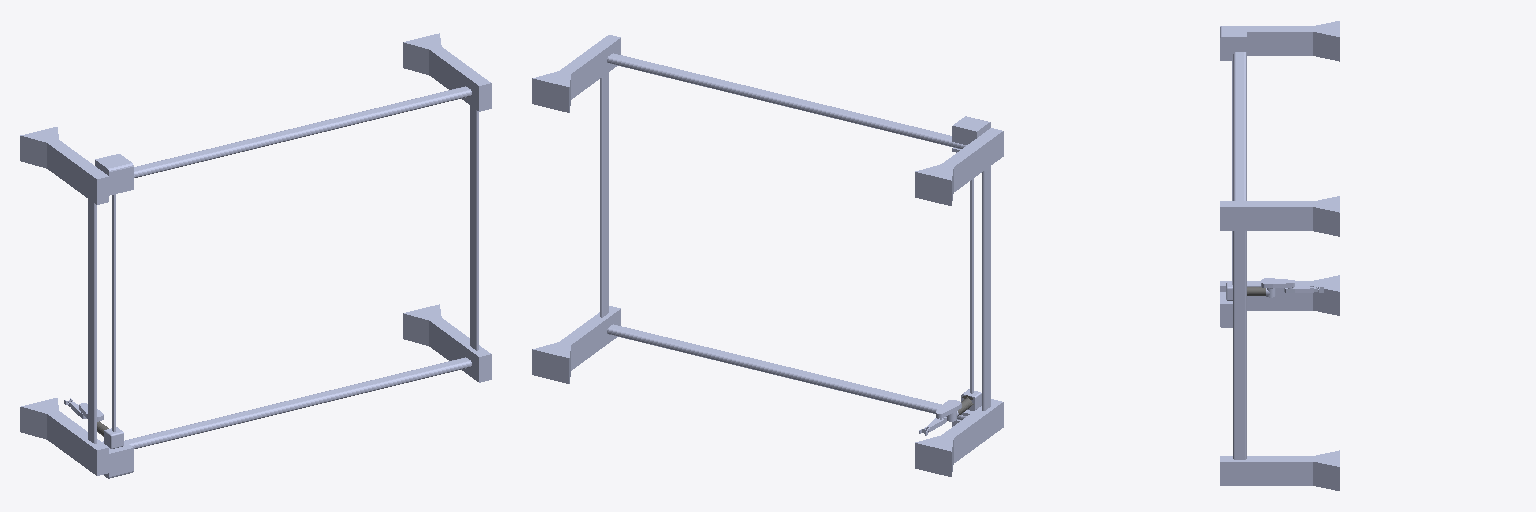
URDF robot description (f_gantry_robot):
<?xml version="1.0" encoding="utf-8"?>
<!-- This URDF was automatically created by SolidWorks to URDF Exporter! Originally created by [author] ([email redacted]) 
     Commit Version: 1.6.0-1-g15f4949  Build Version: 1.6.7594.29634
     For more information, please see http://wiki.ros.org/sw_urdf_exporter -->
<robot
  name="f_gantry_robot">

  <link name="dummy_link">
  </link>
  <joint name="dummy_joint" type="fixed">
  <parent link="dummy_link" />
  <child link="L0" />
  </joint>

  <link
    name="L0">
    <inertial>
      <origin
        xyz="1.10714285904415 0.749998569618219 0.350440549636899"
        rpy="0 0 0" />
      <mass
        value="45.7090884938413" />
      <inertia
        ixx="26.2933073109288"
        ixy="-1.22171726068075E-08"
        ixz="-9.64466009582674E-10"
        iyy="49.4179293885173"
        iyz="3.22610356515301E-09"
        izz="71.8303400673022" />
    </inertial>
    <visual>
      <origin
        xyz="0 0 0"
        rpy="0 0 0" />
      <geometry>
        <mesh
          filename="package://f_gantry_robot/meshes/L0.STL" />
      </geometry>
      <material
        name="">
        <color
          rgba="0.792156862745098 0.819607843137255 0.933333333333333 1" />
      </material>
    </visual>
    <collision>
      <origin
        xyz="0 0 0"
        rpy="0 0 0" />
      <geometry>
        <mesh
          filename="package://f_gantry_robot/meshes/L0.STL" />
      </geometry>
    </collision>
  </link>

  <link
    name="L1">
    <inertial>
      <origin
        xyz="-0.785714281544138 0.00464236562733333 -0.0714285714285771"
        rpy="0 0 0" />
      <mass
        value="5.40609923187187" />
      <inertia
        ixx="0.0172106463607029"
        ixy="-2.92290980463068E-12"
        ixz="4.31293956137086E-17"
        iyy="3.26278765690857"
        iyz="-3.6056677368165E-18"
        izz="3.26259194444328" />
    </inertial>
    <visual>
      <origin
        xyz="0 0 0"
        rpy="0 0 0" />
      <geometry>
        <mesh
          filename="package://f_gantry_robot/meshes/L1.STL" />
      </geometry>
      <material
        name="">
        <color
          rgba="0.792156862745098 0.819607843137255 0.933333333333333 1" />
      </material>
    </visual>
    <collision>
      <origin
        xyz="0 0 0"
        rpy="0 0 0" />
      <geometry>
        <mesh
          filename="package://f_gantry_robot/meshes/L1.STL" />
      </geometry>
    </collision>
  </link>

  <joint
    name="J1"
    type="prismatic">
    <origin
      xyz="0.035714 -0.57143 -0.035714"
      rpy="3.1416 1.5708 0" />
    <parent
      link="L0" />
    <child
      link="L1" />
    <axis
      xyz="0 0 1" />
    <limit
      lower="-2"
      upper="0"
      effort="90"
      velocity="0.1" />
  </joint>

  <transmission name="Joint_1">
    <type>transmission_interface/SimpleTransmission</type>
    <joint name="J1">
      <hardwareInterface>hardware_interface/PositionJointInterface</hardwareInterface>
    </joint>
    <actuator name="M1">
      <mechanicalReduction>1</mechanicalReduction>
    </actuator>
  </transmission> 

  <link
    name="L2">
    <inertial>
      <origin
        xyz="-1.38777878078145E-16 -0.000295354865567976 -0.040001123995086"
        rpy="0 0 0" />
      <mass
        value="0.434899584888463" />
      <inertia
        ixx="0.000416959438846053"
        ixy="2.52017255905925E-19"
        ixz="-1.46824558728147E-20"
        iyy="0.000463089836628531"
        iyz="8.63983052819577E-20"
        izz="0.000425389259754008" />
    </inertial>
    <visual>
      <origin
        xyz="0 0 0"
        rpy="0 0 0" />
      <geometry>
        <mesh
          filename="package://f_gantry_robot/meshes/L2.STL" />
      </geometry>
      <material
        name="">
        <color
          rgba="0.792156862745098 0.819607843137255 0.933333333333333 1" />
      </material>
    </visual>
    <collision>
      <origin
        xyz="0 0 0"
        rpy="0 0 0" />
      <geometry>
        <mesh
          filename="package://f_gantry_robot/meshes/L2.STL" />
      </geometry>
    </collision>
  </link>
  <joint
    name="J2"
    type="prismatic">
    <origin
      xyz="-0.071427 0 -0.071429"
      rpy="0 1.5708 0" />
    <parent
      link="L1" />
    <child
      link="L2" />
    <axis
      xyz="0 2.6946E-05 -1" />
    <limit
      lower="0"
      upper="1.3486"
      effort="20"
      velocity="0.1" />
  </joint>

  <transmission name="Joint_2">
    <type>transmission_interface/SimpleTransmission</type>
    <joint name="J2">
      <hardwareInterface>hardware_interface/PositionJointInterface</hardwareInterface>
    </joint>
    <actuator name="M2">
      <mechanicalReduction>1</mechanicalReduction>
    </actuator>
  </transmission> 

  <link
    name="L3">
    <inertial>
      <origin
        xyz="-8.79478468028549E-06 0.0736471747897318 -1.88876692064355E-14"
        rpy="0 0 0" />
      <mass
        value="0.325325262072372" />
      <inertia
        ixx="0.000779107599593089"
        ixy="-1.74981056722359E-07"
        ixz="3.71433853743346E-22"
        iyy="0.000117049903997481"
        iyz="3.37111552918147E-19"
        izz="0.00077918886554173" />
    </inertial>
    <visual>
      <origin
        xyz="0 0 0"
        rpy="0 0 0" />
      <geometry>
        <mesh
          filename="package://f_gantry_robot/meshes/L3.STL" />
      </geometry>
      <material
        name="">
        <color
          rgba="0.498039215686275 0.498039215686275 0.498039215686275 1" />
      </material>
    </visual>
    <collision>
      <origin
        xyz="0 0 0"
        rpy="0 0 0" />
      <geometry>
        <mesh
          filename="package://f_gantry_robot/meshes/L3.STL" />
      </geometry>
    </collision>
  </link>


  <joint
    name="J3"
    type="fixed">
    <origin
      xyz="0 -0.029712 -0.040001"
      rpy="-3.1416 0 0" />
    <parent
      link="L2" />
    <child
      link="L3" />
    <axis
      xyz="0 1 0" />
  </joint>
  <link
    name="L4">
    <inertial>
      <origin
        xyz="0.0149979767799962 0.0274694096422748 -2.10815332551961E-08"
        rpy="0 0 0" />
      <mass
        value="0.158592600561539" />
      <inertia
        ixx="5.21692004565407E-05"
        ixy="3.49364309120793E-06"
        ixz="8.2568799672585E-11"
        iyy="0.000114681862985054"
        iyz="-1.15832100350628E-10"
        izz="0.000109591783908965" />
    </inertial>
    <visual>
      <origin
        xyz="0 0 0"
        rpy="0 0 0" />
      <geometry>
        <mesh
          filename="package://f_gantry_robot/meshes/L4.STL" />
      </geometry>
      <material
        name="">
        <color
          rgba="0.792156862745098 0.819607843137255 0.933333333333333 1" />
      </material>
    </visual>
    <collision>
      <origin
        xyz="0 0 0"
        rpy="0 0 0" />
      <geometry>
        <mesh
          filename="package://f_gantry_robot/meshes/L4.STL" />
      </geometry>
    </collision>
  </link>

  <joint
    name="J4"
    type="revolute">
    <origin
      xyz="0 0.146 0"
      rpy="-3.1416 -1.5687 3.1416" />
    <parent
      link="L3" />
    <child
      link="L4" />
    <axis
      xyz="0 1 0" />
    <limit
      lower="-3.14"
      upper="3.14"
      effort="20"
      velocity="1" />
  </joint>

  <transmission name="Joint_4">
    <type>transmission_interface/SimpleTransmission</type>
    <joint name="J4">
      <hardwareInterface>hardware_interface/PositionJointInterface</hardwareInterface>
    </joint>
    <actuator name="M4">
      <mechanicalReduction>1</mechanicalReduction>
    </actuator>
  </transmission> 

  <link
    name="L5">
    <inertial>
      <origin
        xyz="1.65548130759419E-13 -0.0178430116520465 -0.0330210650613293"
        rpy="0 0 0" />
      <mass
        value="0.229643508251062" />
      <inertia
        ixx="0.000589562582560473"
        ixy="-2.68345662518328E-20"
        ixz="5.17325372535564E-19"
        iyy="0.000667491249164921"
        iyz="2.76727992986223E-07"
        izz="0.00010488966479855" />
    </inertial>
    <visual>
      <origin
        xyz="0 0 0"
        rpy="0 0 0" />
      <geometry>
        <mesh
          filename="package://f_gantry_robot/meshes/L5.STL" />
      </geometry>
      <material
        name="">
        <color
          rgba="0.792156862745098 0.819607843137255 0.933333333333333 1" />
      </material>
    </visual>
    <collision>
      <origin
        xyz="0 0 0"
        rpy="0 0 0" />
      <geometry>
        <mesh
          filename="package://f_gantry_robot/meshes/L5.STL" />
      </geometry>
    </collision>
  </link>


  <joint
    name="J5"
    type="revolute">
    <origin
      xyz="0.029 0.026 0"
      rpy="0 -1.547 1.5708" />
    <parent
      link="L4" />
    <child
      link="L5" />
    <axis
      xyz="0 1 0" />
    <limit
      lower="-3.14"
      upper="3.14"
      effort="20"
      velocity="1" />
  </joint>

  <transmission name="Joint_5">
    <type>transmission_interface/SimpleTransmission</type>
    <joint name="J5">
      <hardwareInterface>hardware_interface/PositionJointInterface</hardwareInterface>
    </joint>
    <actuator name="M5">
      <mechanicalReduction>1</mechanicalReduction>
    </actuator>
  </transmission> 

  <link
    name="L6">
    <inertial>
      <origin
        xyz="4.88498130835069E-15 -0.0146356446057586 -0.0353152453376644"
        rpy="0 0 0" />
      <mass
        value="0.165415455625704" />
      <inertia
        ixx="0.000320673122950523"
        ixy="3.09696421339854E-21"
        ixz="4.65868120989865E-20"
        iyy="0.000321812073133408"
        iyz="-1.67334478420098E-05"
        izz="3.84249953599312E-05" />
    </inertial>
    <visual>
      <origin
        xyz="0 0 0"
        rpy="0 0 0" />
      <geometry>
        <mesh
          filename="package://f_gantry_robot/meshes/L6.STL" />
      </geometry>
      <material
        name="">
        <color
          rgba="0.792156862745098 0.819607843137255 0.933333333333333 1" />
      </material>
    </visual>
    <collision>
      <origin
        xyz="0 0 0"
        rpy="0 0 0" />
      <geometry>
        <mesh
          filename="package://f_gantry_robot/meshes/L6.STL" />
      </geometry>
    </collision>
  </link>


  <joint
    name="J6"
    type="revolute">
    <origin
      xyz="0 0 -0.10255"
      rpy="0 0.01102 -3.1416" />
    <parent
      link="L5" />
    <child
      link="L6" />
    <axis
      xyz="0 1 0" />
    <limit
      lower="-3.14"
      upper="3.14"
      effort="20"
      velocity="1" />
  </joint>

  <transmission name="Joint_6">
    <type>transmission_interface/SimpleTransmission</type>
    <joint name="J6">
      <hardwareInterface>hardware_interface/PositionJointInterface</hardwareInterface>
    </joint>
    <actuator name="M6">
      <mechanicalReduction>1</mechanicalReduction>
    </actuator>
  </transmission> 

  <link
    name="L7">
    <inertial>
      <origin
        xyz="-4.8017145815038E-15 -0.00844472740586596 -5.55111512312578E-17"
        rpy="0 0 0" />
      <mass
        value="0.00578055719994573" />
      <inertia
        ixx="3.70196834286497E-07"
        ixy="-9.55393607498747E-23"
        ixz="-9.23878193682978E-19"
        iyy="6.56573634085627E-07"
        iyz="1.11960188378759E-24"
        izz="6.09329174700272E-07" />
    </inertial>
    <visual>
      <origin
        xyz="0 0 0"
        rpy="0 0 0" />
      <geometry>
        <mesh
          filename="package://f_gantry_robot/meshes/L7.STL" />
      </geometry>
      <material
        name="">
        <color
          rgba="0.792156862745098 0.819607843137255 0.933333333333333 1" />
      </material>
    </visual>
    <collision>
      <origin
        xyz="0 0 0"
        rpy="0 0 0" />
      <geometry>
        <mesh
          filename="package://f_gantry_robot/meshes/L7.STL" />
      </geometry>
    </collision>
  </link>


  <joint
    name="J7"
    type="revolute">
    <origin
      xyz="0 -0.0175 -0.1275"
      rpy="1.5708 0 3.1399" />
    <parent
      link="L6" />
    <child
      link="L7" />
    <axis
      xyz="0 1 0" />
    <limit
      lower="-3.14"
      upper="3.14"
      effort="1"
      velocity="1" />
  </joint>

  <transmission name="Joint_7">
    <type>transmission_interface/SimpleTransmission</type>
    <joint name="J7">
      <hardwareInterface>hardware_interface/PositionJointInterface</hardwareInterface>
    </joint>
    <actuator name="M7">
      <mechanicalReduction>1</mechanicalReduction>
    </actuator>
  </transmission> 

  <link
    name="L8">
    <inertial>
      <origin
        xyz="-2.08490431308217E-08 -0.000283519514683597 -6.36626912298155E-08"
        rpy="0 0 0" />
      <mass
        value="0.00113453443914184" />
      <inertia
        ixx="3.61708115632829E-08"
        ixy="2.16375662839659E-13"
        ixz="1.93788779678884E-13"
        iyy="3.70021700782141E-08"
        iyz="1.08352825470538E-13"
        izz="1.31028052716023E-08" />
    </inertial>
    <visual>
      <origin
        xyz="0 0 0"
        rpy="0 0 0" />
      <geometry>
        <mesh
          filename="package://f_gantry_robot/meshes/L8.STL" />
      </geometry>
      <material
        name="">
        <color
          rgba="0.792156862745098 0.819607843137255 0.933333333333333 1" />
      </material>
    </visual>
    <collision>
      <origin
        xyz="0 0 0"
        rpy="0 0 0" />
      <geometry>
        <mesh
          filename="package://f_gantry_robot/meshes/L8.STL" />
      </geometry>
    </collision>
  </link>


  <joint
    name="J8"
    type="revolute">
    <origin
      xyz="0 -0.014997 0"
      rpy="1.5708 1.5674 -1.5708" />
    <parent
      link="L7" />
    <child
      link="L8" />
    <axis
      xyz="0 0 1" />
    <limit
      lower="-3.14"
      upper="3.14"
      effort="1"
      velocity="1" />
  </joint>

  <link
    name="L9">
    <inertial>
      <origin
        xyz="4.41036096532343E-14 0.0221809868594412 -1.22957199977236E-14"
        rpy="0 0 0" />
      <mass
        value="0.00573826347435232" />
      <inertia
        ixx="6.15476978991467E-07"
        ixy="-2.21364285267153E-19"
        ixz="1.99856965724141E-20"
        iyy="1.55470966727402E-06"
        iyz="-9.96669920065143E-21"
        izz="1.77536322879452E-06" />
    </inertial>
    <visual>
      <origin
        xyz="0 0 0"
        rpy="0 0 0" />
      <geometry>
        <mesh
          filename="package://f_gantry_robot/meshes/L9.STL" />
      </geometry>
      <material
        name="">
        <color
          rgba="0.792156862745098 0.819607843137255 0.933333333333333 1" />
      </material>
    </visual>
    <collision>
      <origin
        xyz="0 0 0"
        rpy="0 0 0" />
      <geometry>
        <mesh
          filename="package://f_gantry_robot/meshes/L9.STL" />
      </geometry>
    </collision>
  </link>

  <transmission name="Joint_8">
    <type>transmission_interface/SimpleTransmission</type>
    <joint name="J8">
      <hardwareInterface>hardware_interface/PositionJointInterface</hardwareInterface>
    </joint>
    <actuator name="M8">
      <mechanicalReduction>1</mechanicalReduction>
    </actuator>
  </transmission> 

  <joint
    name="J9"
    type="revolute">
    <origin
      xyz="0 0 0"
      rpy="0 -1.5705 0" />
    <parent
      link="L8" />
    <child
      link="L9" />
    <axis
      xyz="0 1 0" />
    <limit
      lower="-3.14"
      upper="3.14"
      effort="10"
      velocity="1" />
  </joint>

  <transmission name="Joint_9">
    <type>transmission_interface/SimpleTransmission</type>
    <joint name="J9">
      <hardwareInterface>hardware_interface/PositionJointInterface</hardwareInterface>
    </joint>
    <actuator name="M9">
      <mechanicalReduction>1</mechanicalReduction>
    </actuator>
  </transmission> 

</robot>

--- Facts derived from the render (not from the file) ---
3 views of the same robot in one strip: view 1: azimuth 30°, elevation 25°; view 2: azimuth 150°, elevation 25°; view 3: azimuth 270°, elevation 25° (orthographic).
Robot: f_gantry_robot — 11 links, 10 joints (6 revolute, 2 prismatic, 2 fixed); root link dummy_link; default pose: all joints at 0.
Visible links, largest first — view 1: L0, L1; view 2: L0, L1; view 3: L0, L1.
Boxes of the visible links, x1=… form: L0: x1=20, y1=33, x2=491, y2=475; L1: x1=95, y1=154, x2=133, y2=478; L0: x1=532, y1=35, x2=1003, y2=476; L1: x1=952, y1=116, x2=990, y2=426; L0: x1=1220, y1=21, x2=1339, y2=490; L1: x1=1220, y1=26, x2=1246, y2=327.
Size in the robot's own frame: 2.43 by 0.6429 by 1.71 metres.
Meshes: 10 distinct files referenced, 10 mesh visuals loaded (10 binary STL).